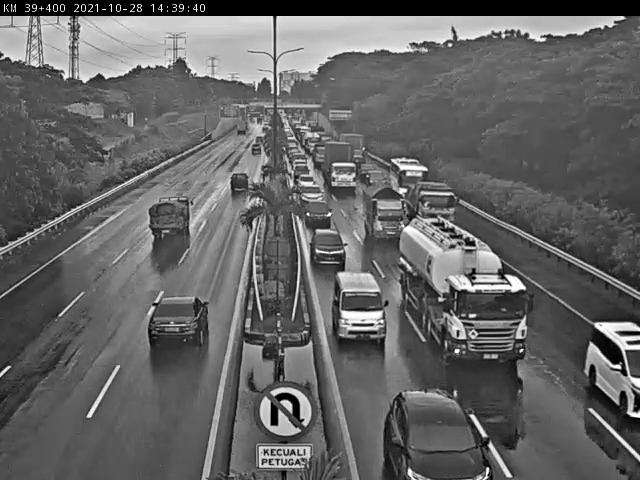big truck: (380, 195, 527, 356)
car: (373, 356, 471, 469), (122, 292, 240, 362), (548, 300, 622, 371), (327, 268, 390, 335), (216, 171, 263, 215), (314, 223, 348, 265), (304, 205, 330, 232), (301, 185, 325, 203), (240, 152, 259, 174), (245, 137, 265, 157), (299, 163, 315, 183)
small truck: (136, 194, 203, 253), (343, 167, 371, 204)
